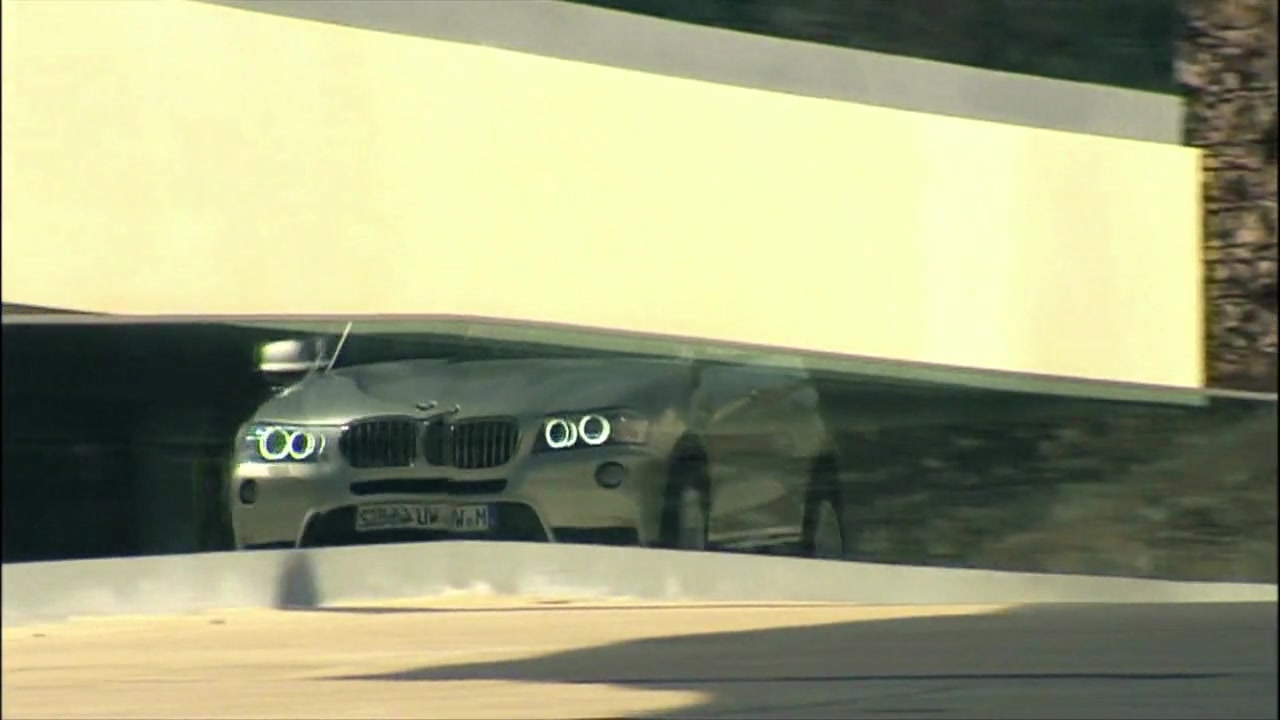car: (214, 317, 854, 551)
